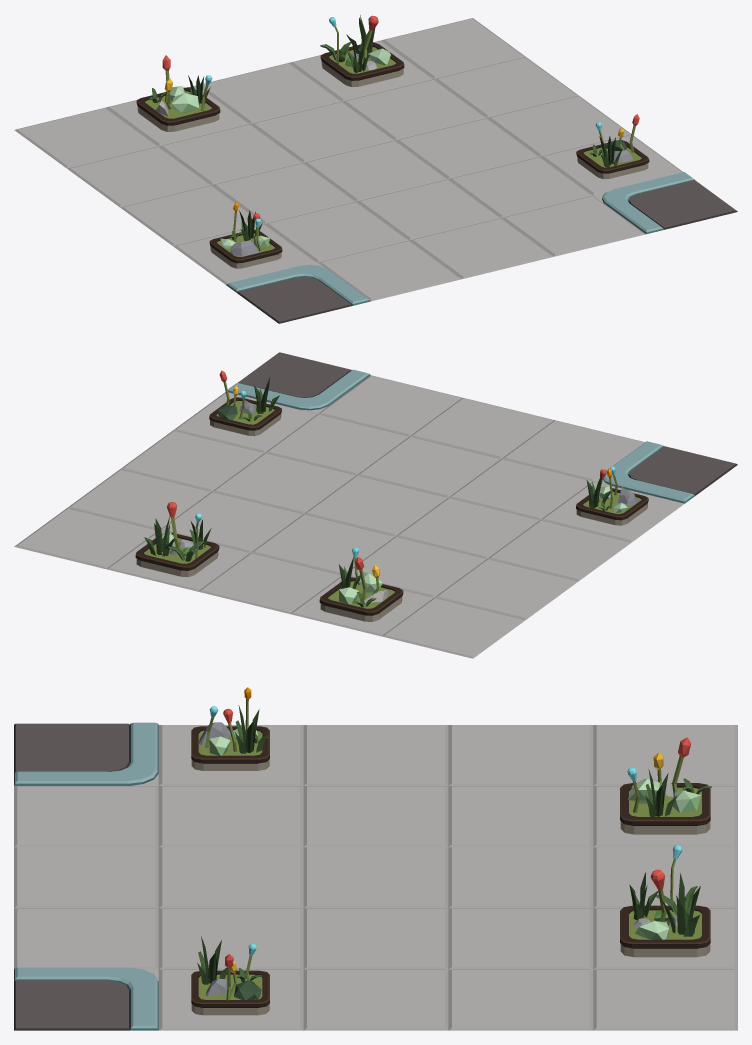
Rendered from EmptyFork_D.glb.
3 renders of one model, top to bottom at view 1: azimuth 30°, elevation 25°; view 2: azimuth 150°, elevation 25°; view 3: azimuth 270°, elevation 25°, orthographic. The views are drawn at different scales.
Parts seen in each view (by area): view 1: EmptyFork_D, Cube.030, Cube.016, Cube.015, Cube.033; view 2: EmptyFork_D, Cube.030, Cube.016, Cube.015, Cube.033, Grass_03.020; view 3: EmptyFork_D, Cube.016, Cube.030, Cube.015, Cube.033, Grass_03.020, Grass_03.023, Grass_03.021, Grass_03.022, Flower03.1601, Grass_03.019.
Part boxes in pixels (<box>): EmptyFork_D: <box>14,18,737,323</box>; Cube.030: <box>136,87,220,131</box>; Cube.016: <box>320,42,404,86</box>; Cube.015: <box>576,141,649,179</box>; Cube.033: <box>209,229,282,268</box>; EmptyFork_D: <box>14,352,737,658</box>; Cube.030: <box>319,577,403,621</box>; Cube.016: <box>135,532,219,577</box>; Cube.015: <box>209,397,281,436</box>; Cube.033: <box>576,488,648,525</box>; Grass_03.020: <box>144,516,174,556</box>; EmptyFork_D: <box>14,722,737,1030</box>; Cube.016: <box>620,905,710,957</box>; Cube.030: <box>620,783,710,834</box>; Cube.015: <box>191,970,269,1015</box>; Cube.033: <box>191,726,269,770</box>; Grass_03.020: <box>662,873,700,936</box>; Grass_03.023: <box>235,705,268,753</box>; Grass_03.021: <box>645,769,677,816</box>; Grass_03.022: <box>197,936,227,984</box>; Flower03.1601: <box>653,737,690,796</box>; Grass_03.019: <box>629,872,658,920</box>.
Size of what is drawn, in the model's own units: 16 by 1.94 by 16.
1 material, 1 textured.
